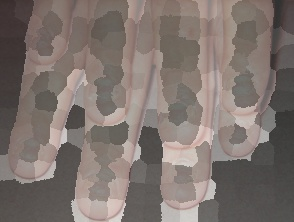Nail_psoriasis: (73, 154, 135, 217), (3, 122, 61, 179), (161, 152, 212, 202), (157, 96, 203, 137), (24, 19, 66, 60), (86, 67, 125, 110), (219, 114, 257, 154), (226, 66, 264, 104)
